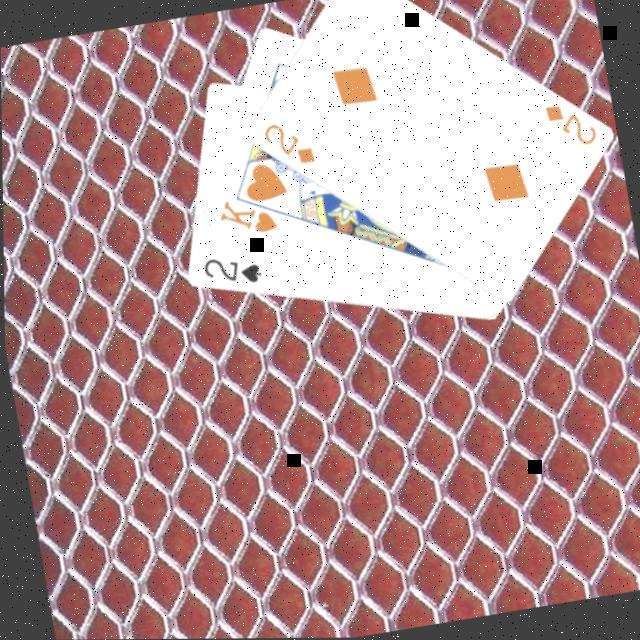2D: (256, 116, 318, 176), (538, 97, 600, 157)
2S: (196, 249, 266, 296)
KH: (212, 192, 280, 244)
